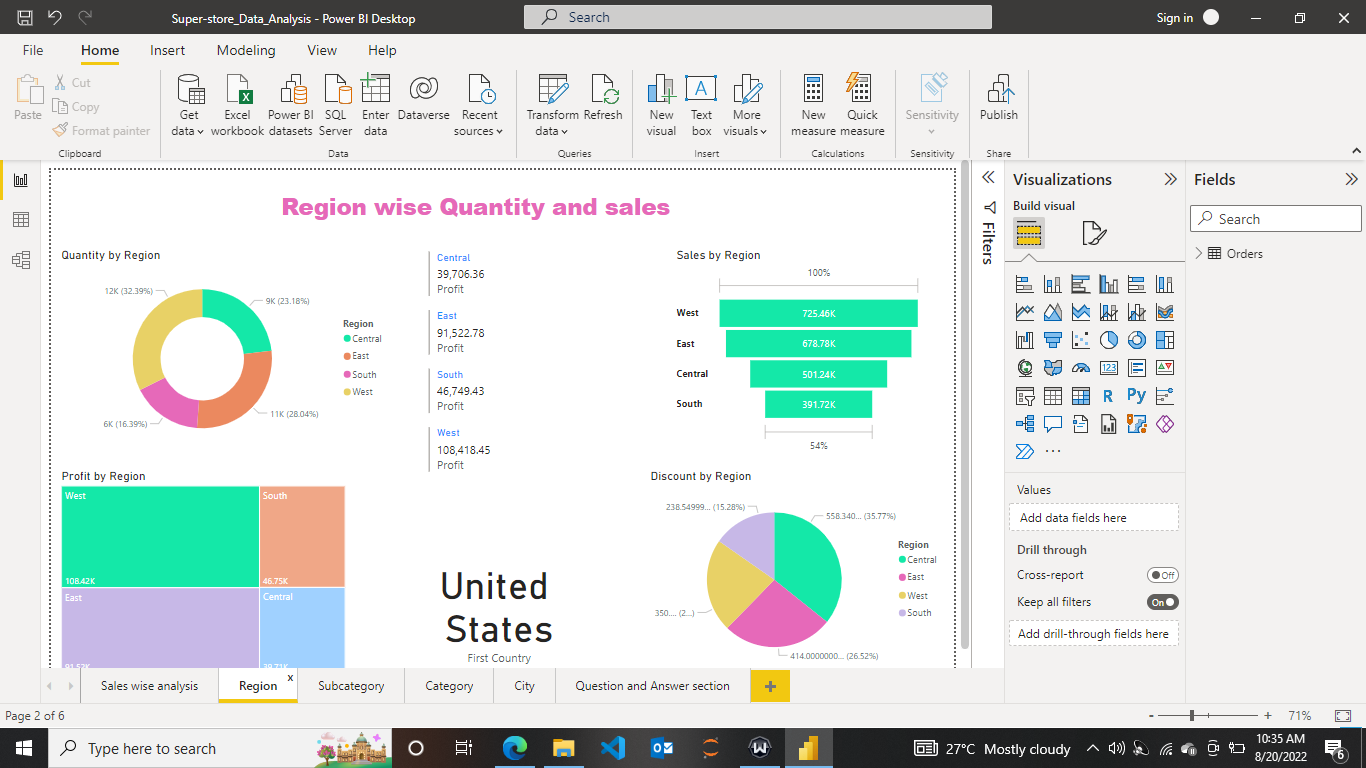

Layout of this report page (visuals, bound fields, positions):
{"tool":"powerbi","page":{"name":"Region","canvas":[1280,720],"ordinal":1},"visuals":[{"type":"donutChart","fields":{"Series":["Orders.Region"],"Y":["Sum(Orders.Quantity)"]},"box":[9.6,111.2,473.8,295.3],"z":0},{"type":"funnel","fields":{"Category":["Orders.Region"],"Y":["Sum(Orders.Sales)"]},"box":[881.7,111.2,357.1,295.3],"z":1000},{"type":"textbox","box":[142.8,24.7,917.4,61.8],"z":2000},{"type":"pieChart","fields":{"Category":["Orders.Region"],"Y":["Sum(Orders.Discount)"]},"box":[844.6,424.4,425.8,295.3],"z":3000},{"type":"treemap","fields":{"Group":["Orders.Region"],"Values":["Sum(Orders.Profit)"]},"box":[9.6,424.4,412,295.3],"z":4000},{"type":"multiRowCard","fields":{"Values":["Orders.Region","Sum(Orders.Profit)"]},"box":[530.5,110.9,217.5,386],"z":5000},{"type":"card","fields":{"Values":["Min(Orders.Country)"]},"box":[474.4,526.3,321.4,193.7],"z":6000}]}

Visuals, with their boxes on the page's 1280x720 design canvas (x1, y1, x2, y2). These are canvas units, not pixel positions in the 1366x768 screenshot, which may show the page scaled, cropped or inside an application window:
donutChart - Orders.Region x Sum(Orders.Quantity): crop(10, 111, 483, 406)
funnel - Orders.Region x Sum(Orders.Sales): crop(882, 111, 1239, 406)
textbox: crop(143, 25, 1060, 86)
pieChart - Orders.Region x Sum(Orders.Discount): crop(845, 424, 1270, 720)
treemap - Orders.Region x Sum(Orders.Profit): crop(10, 424, 422, 720)
multiRowCard - Orders.Region x Sum(Orders.Profit): crop(530, 111, 748, 497)
card - Min(Orders.Country): crop(474, 526, 796, 720)
